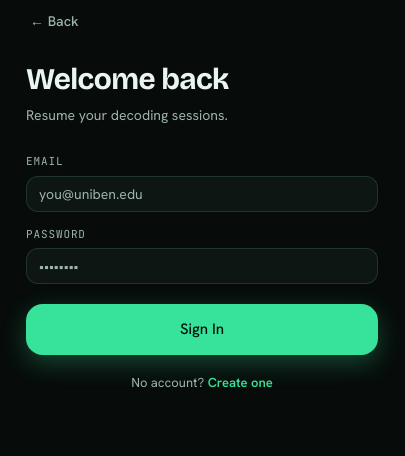
Scenario: signing in › shows the server's reason for rejecting the sign-in
Type "ada@uniben.edu" into the field labelled "EMAIL" at [202, 194], box [26, 176, 378, 212]
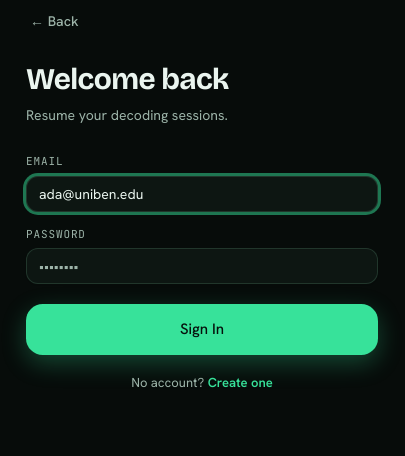
Type "wrong-password" into the password field labelled "PASSWORD" at [202, 266], box [26, 248, 378, 284]
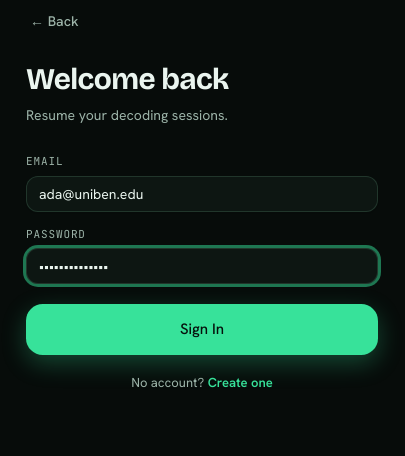
Click the button "Sign In" at [202, 329], box [26, 304, 378, 354]
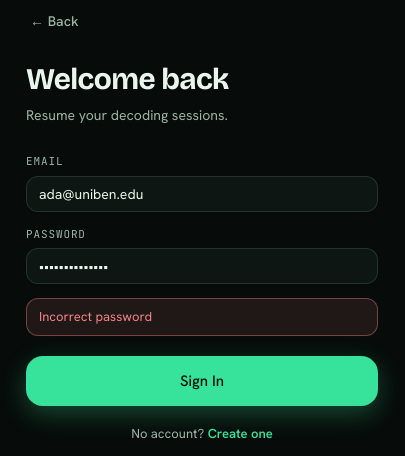
Expected: the message reads "Incorrect password", [39, 308, 152, 325]
